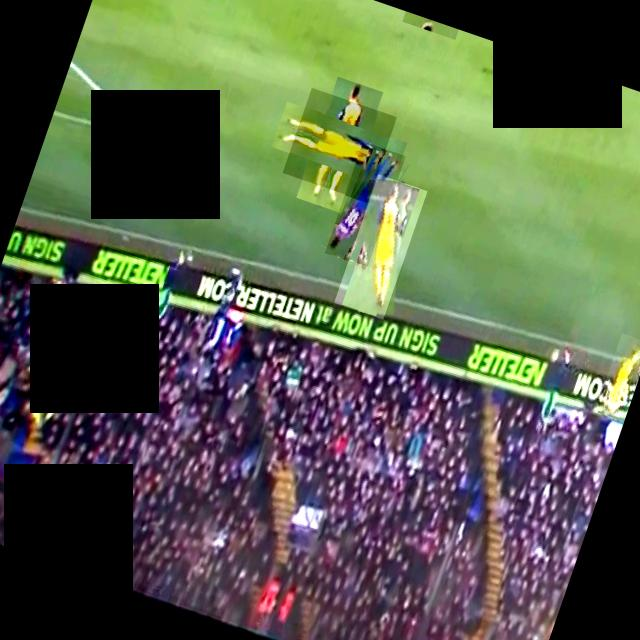soccer-player: (334, 173, 426, 320), (282, 88, 396, 202), (324, 140, 406, 266), (593, 332, 640, 422), (402, 10, 458, 40)
